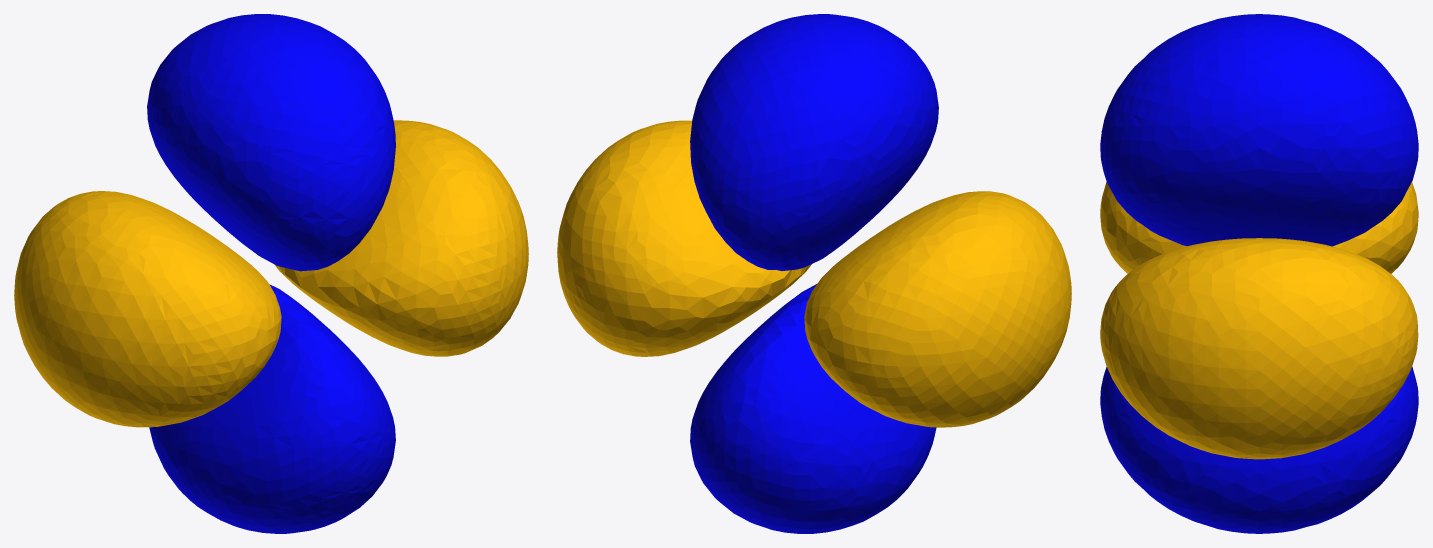
3 renders of one model, left to right at view 1: azimuth 30°, elevation 25°; view 2: azimuth 150°, elevation 25°; view 3: azimuth 270°, elevation 25°, orthographic.
Bounding box in the file's own units: 19.02 × 19.02 × 11.09.
